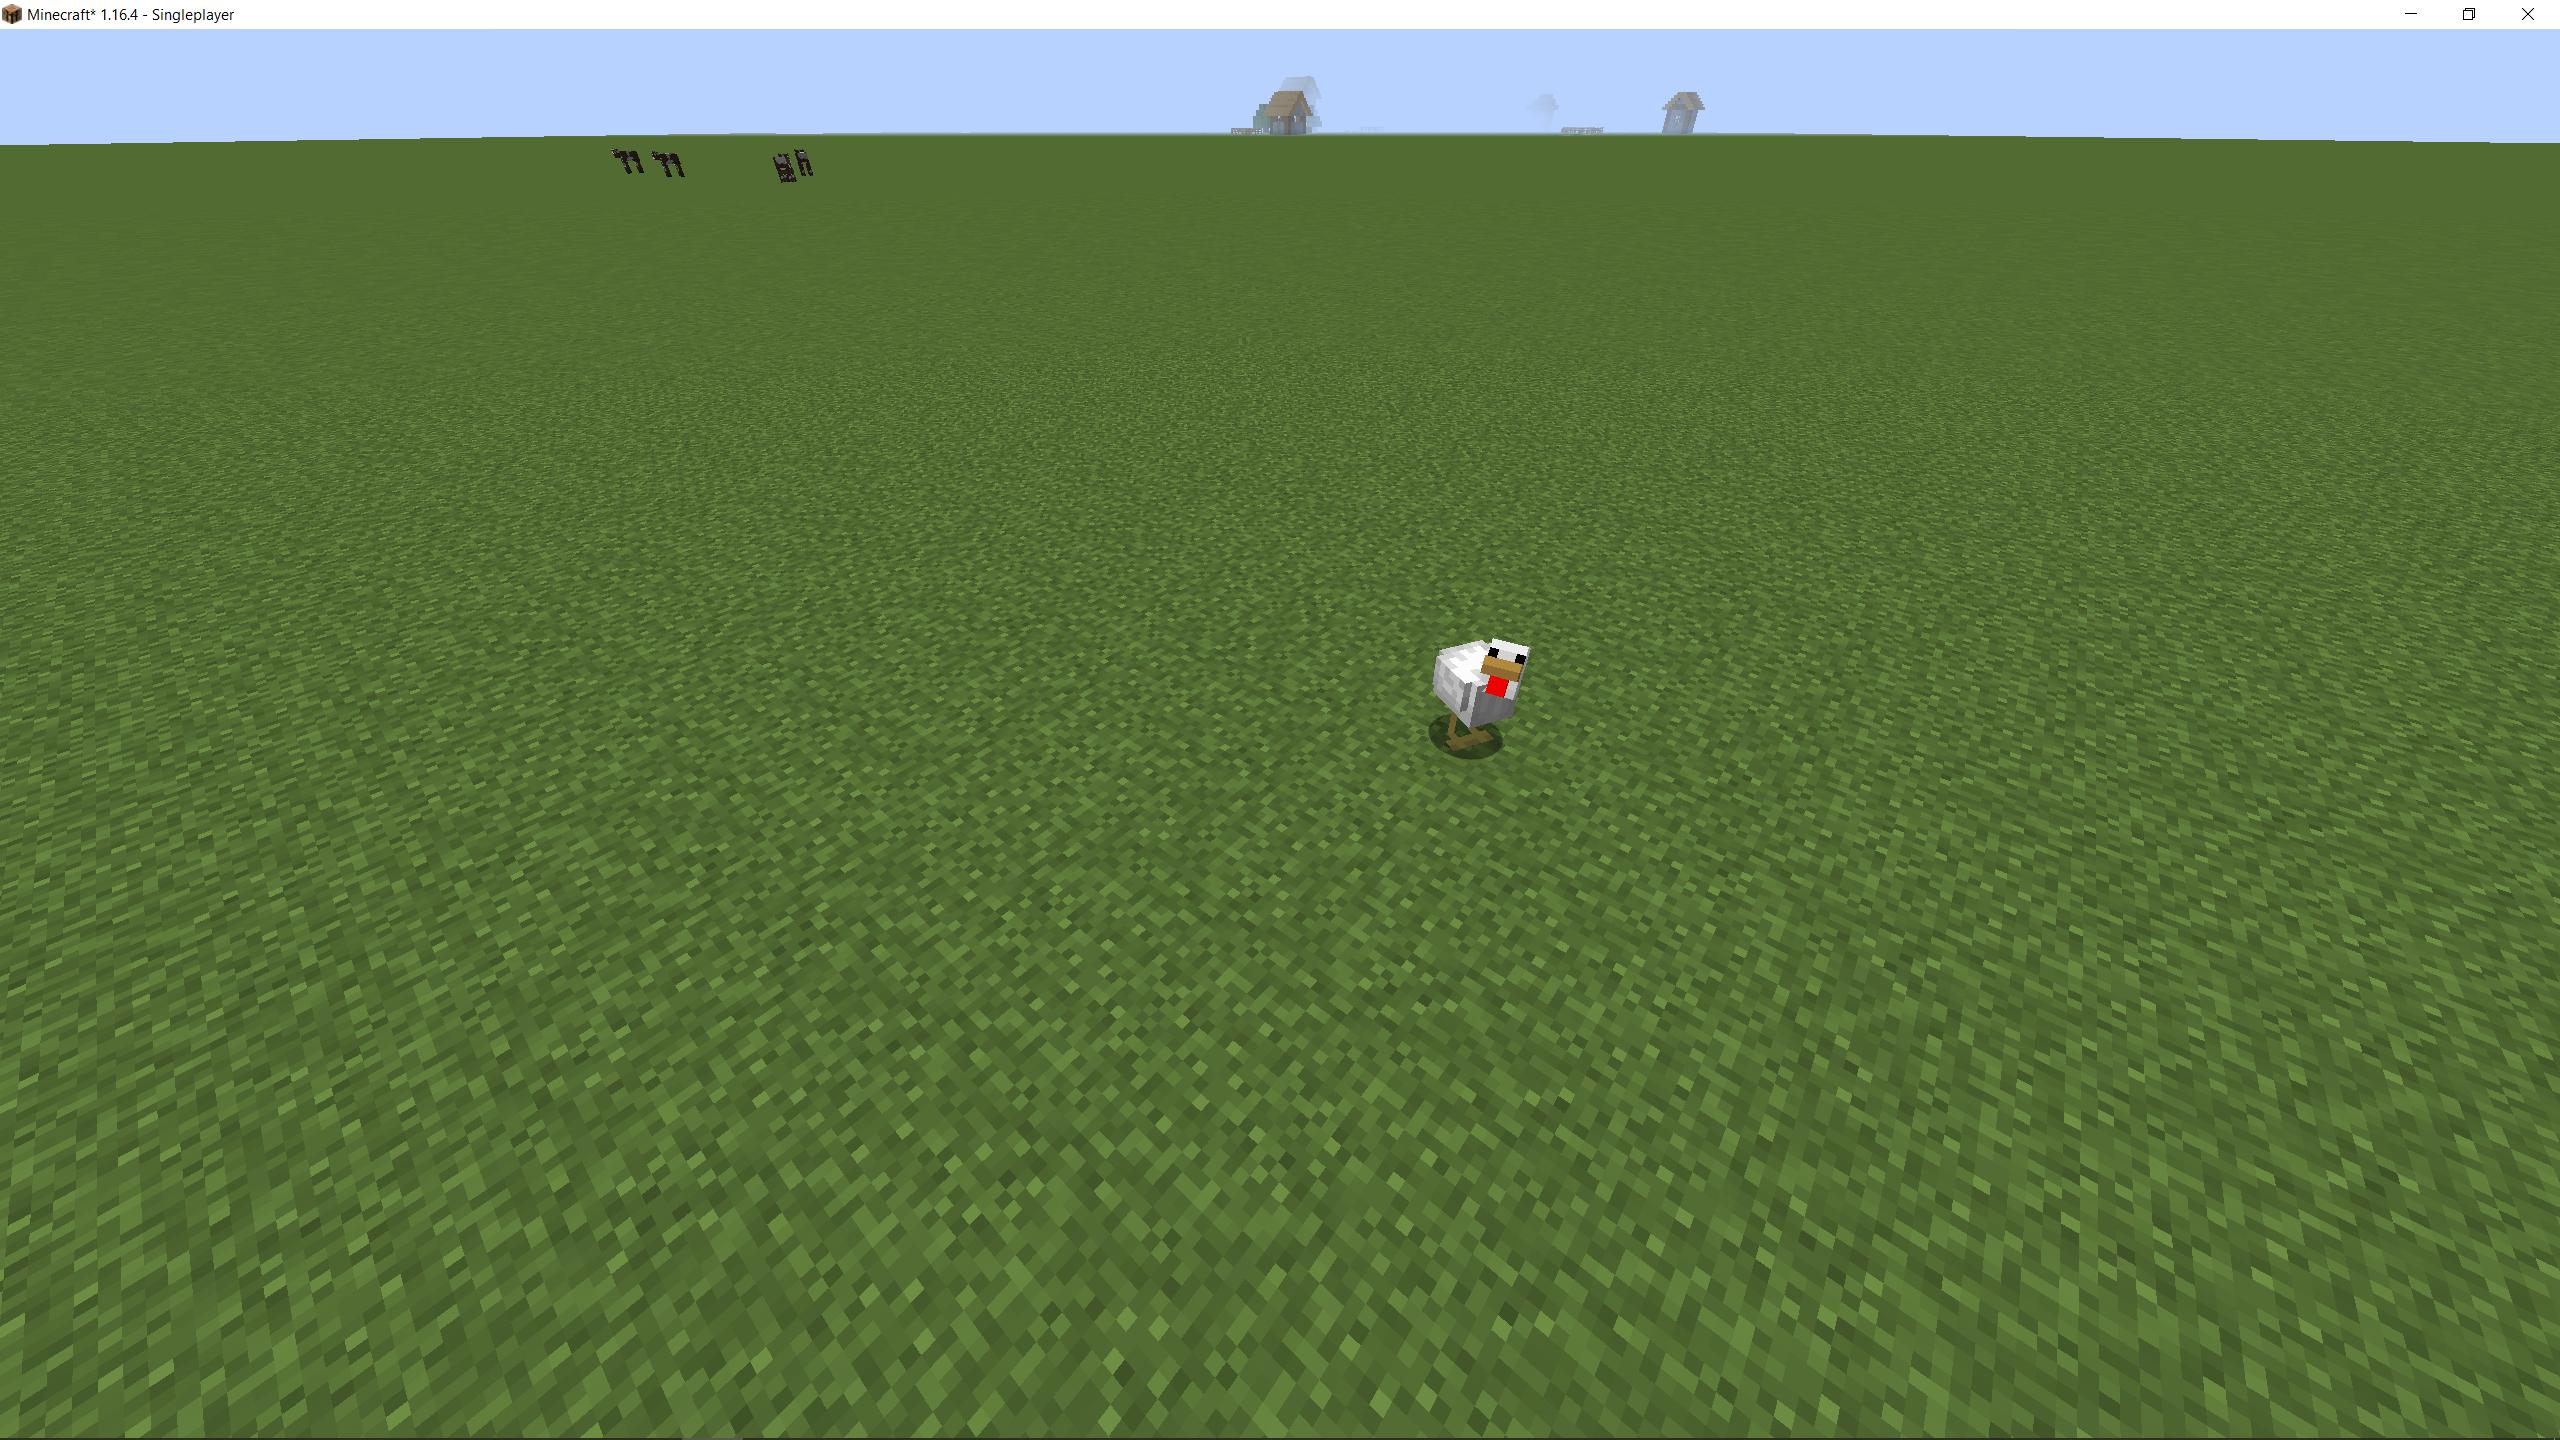chicken: (1429, 635, 1533, 760)
